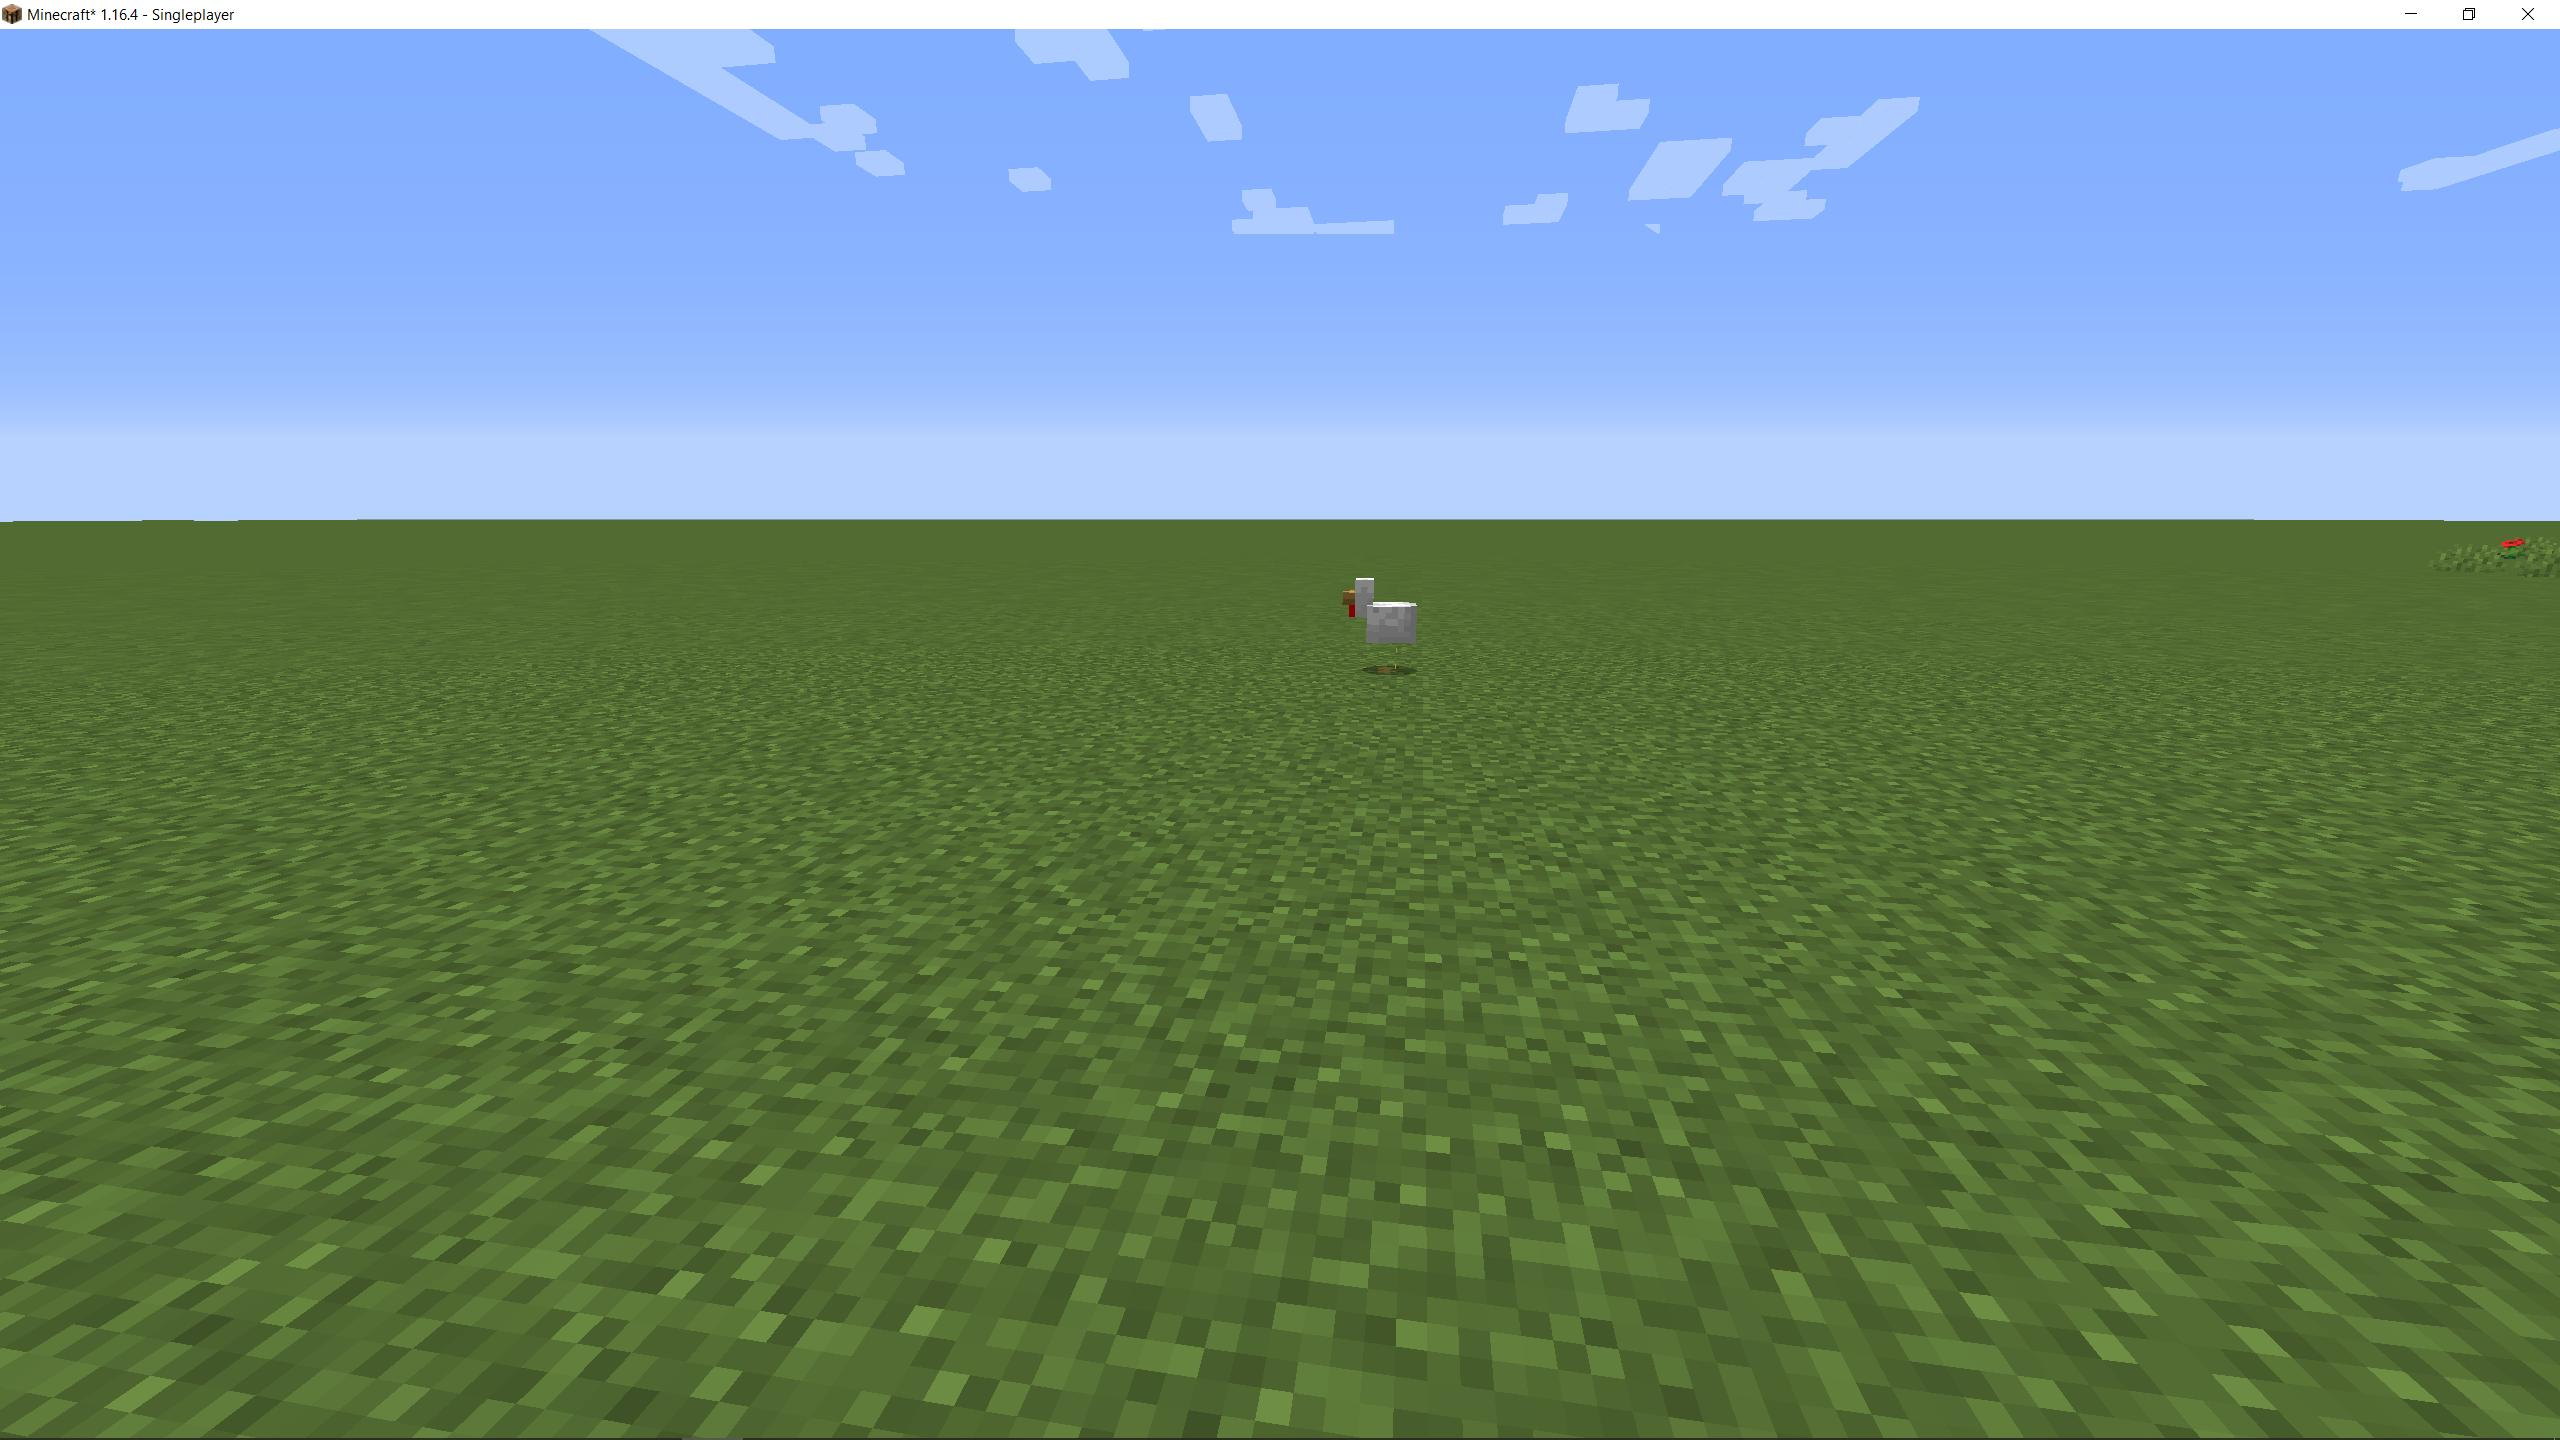chicken: (1335, 573, 1419, 687)
